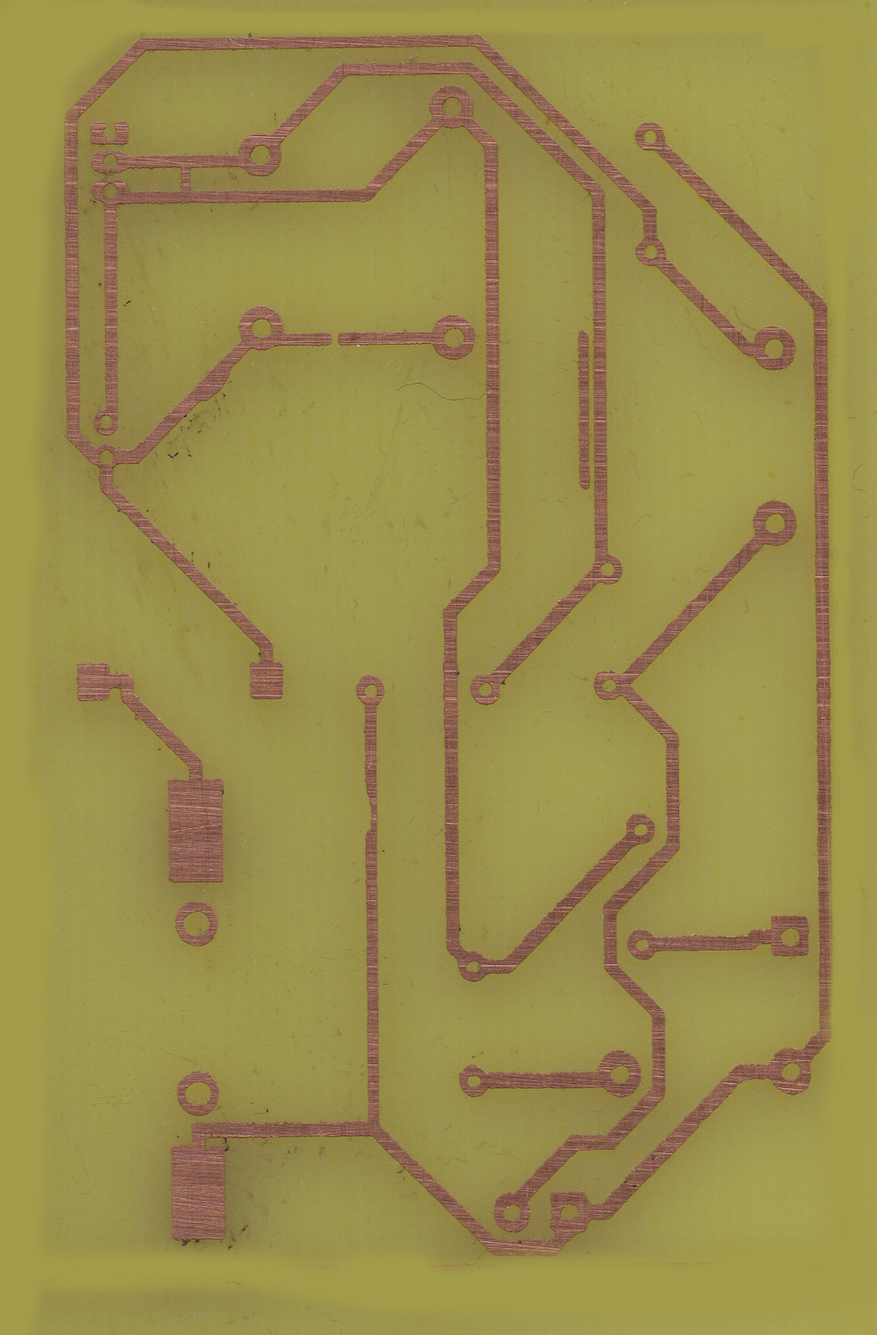missing_hole: (91, 121, 130, 146)
mouse_bite: (363, 790, 378, 838)
open_circuit: (323, 332, 345, 347)
short: (172, 154, 199, 201)
spur: (199, 365, 232, 403)
spurious_copper: (576, 328, 592, 492)
